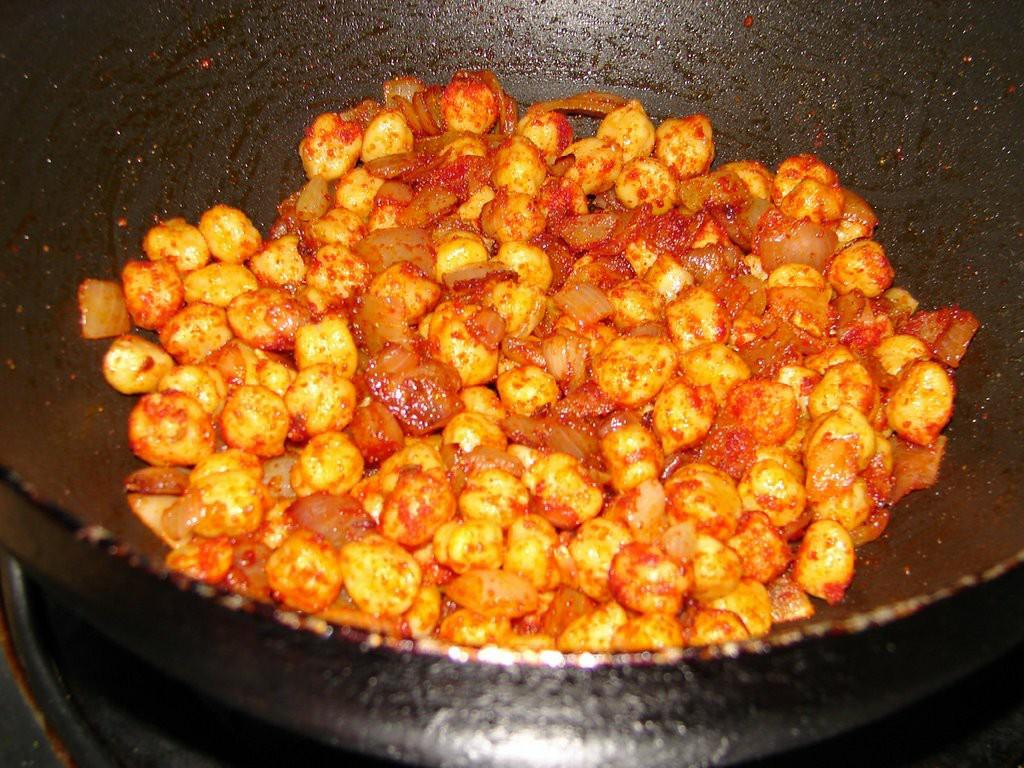Chole: (80, 67, 976, 656)
